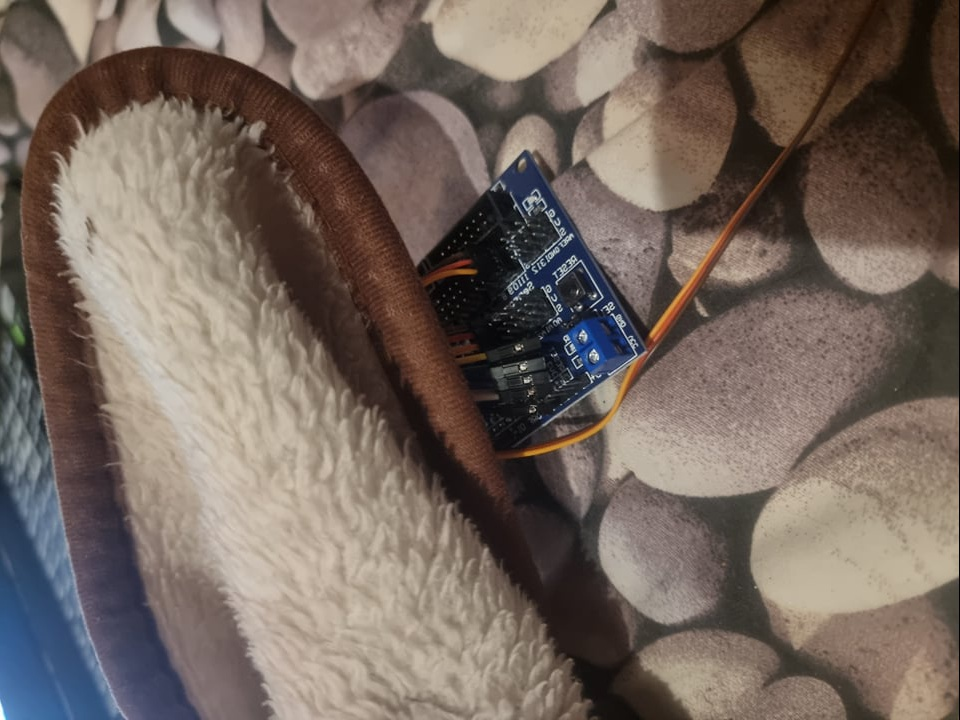5V EXPANSION: (405, 151, 651, 453)
